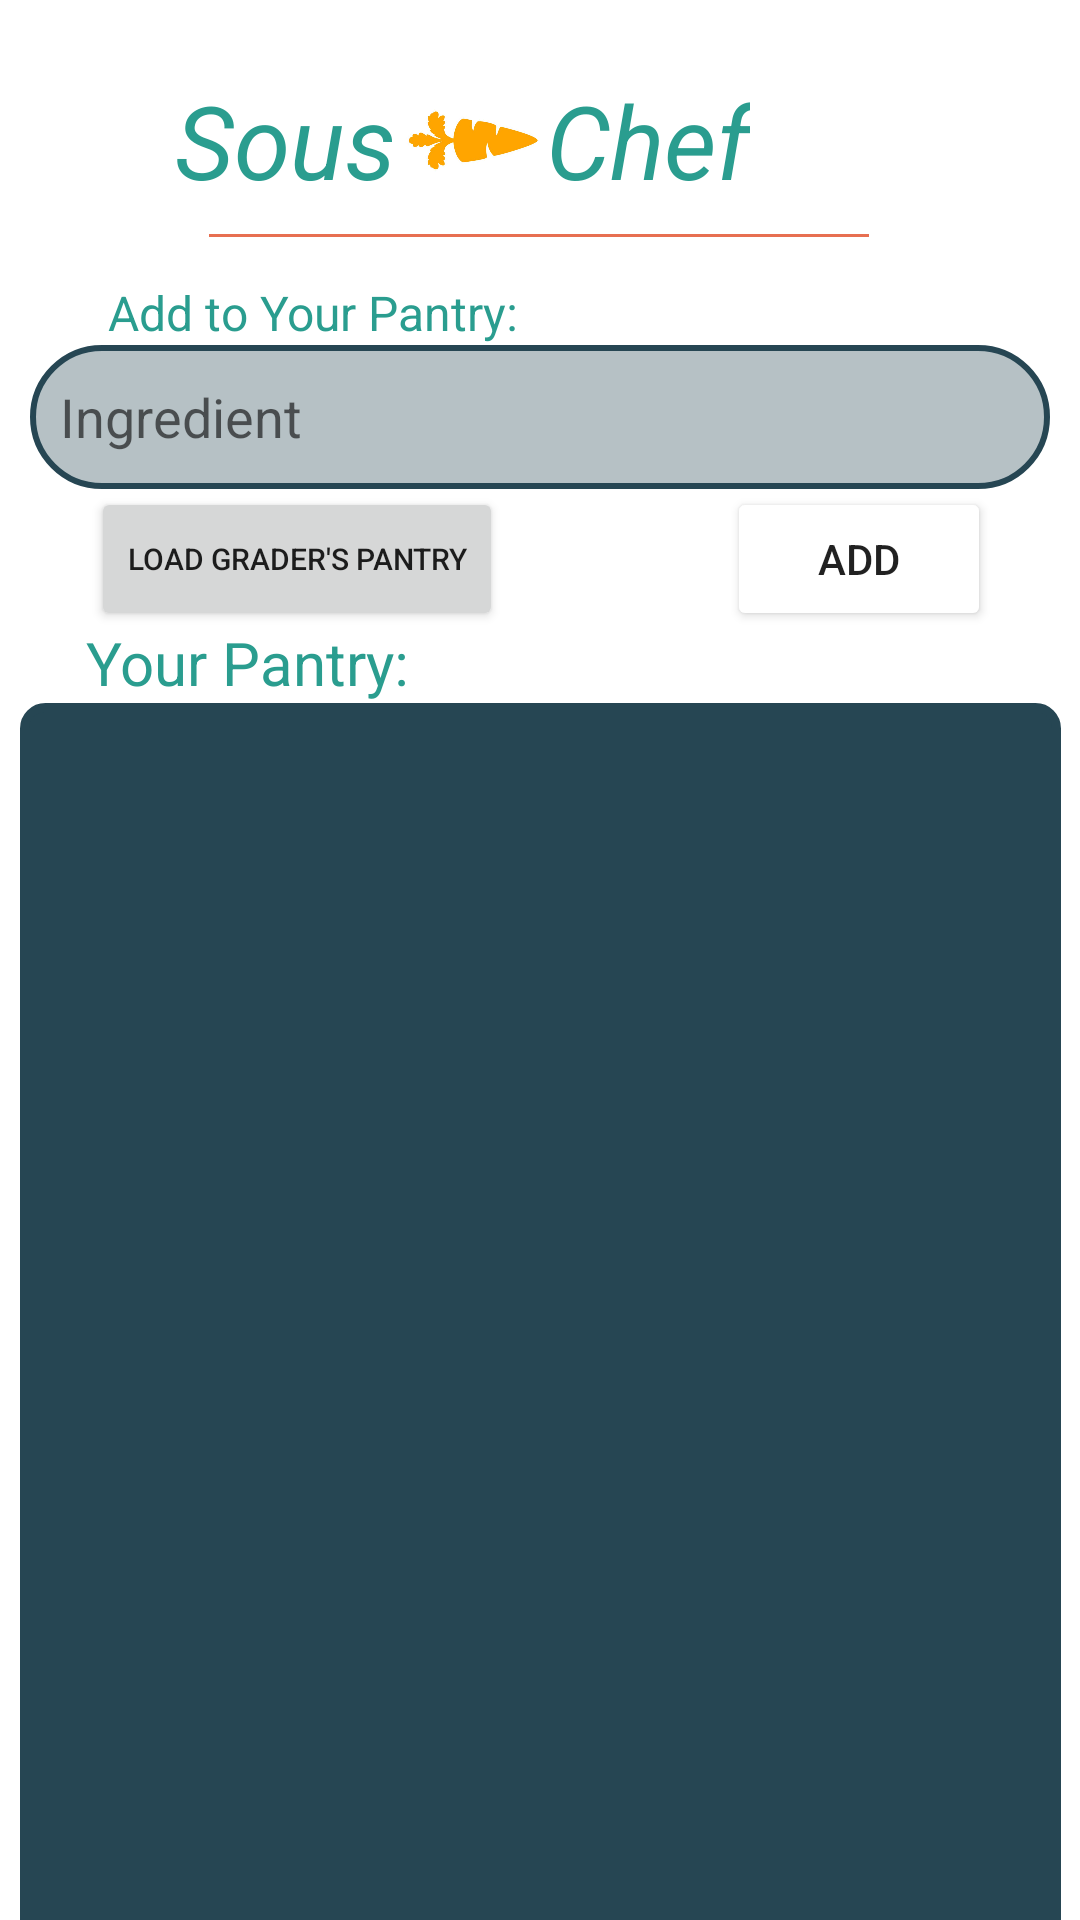

Icons on this 1080 × 1920 Android screen, each with the point to tap as (x,y):
carrot: (473,140)
